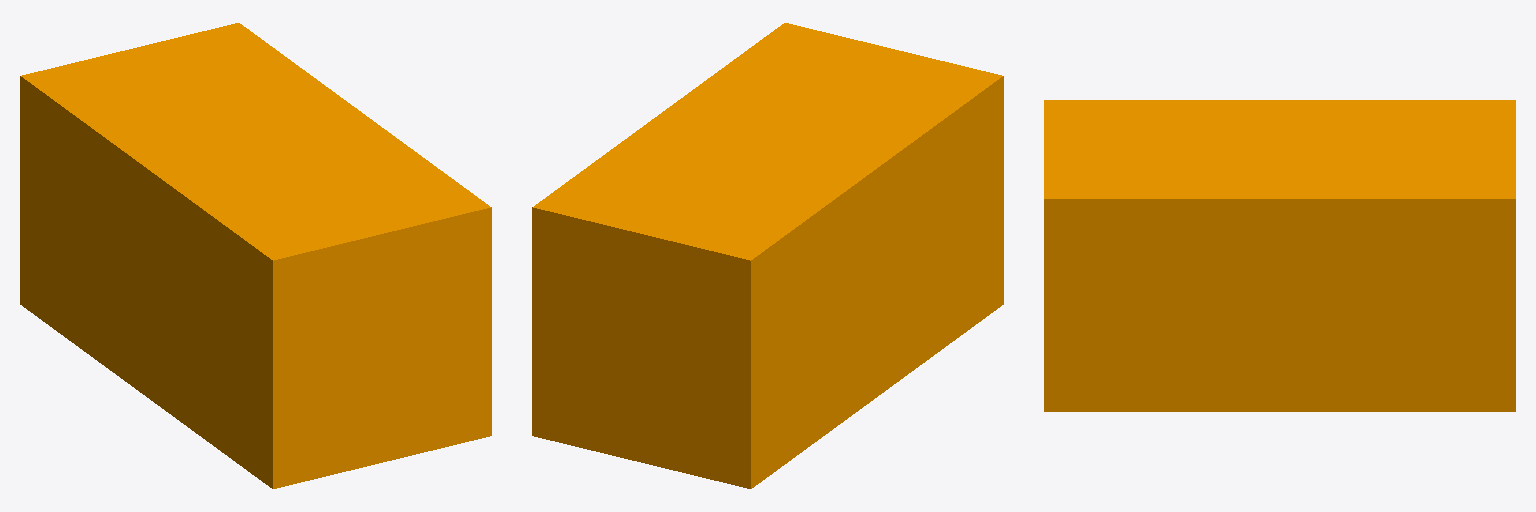
URDF robot description (ball):
<?xml version="0.0" ?>
<robot name="ball">
    <link name="wall">
        <contact>
            <lateral_friction value="1"/>
        </contact>

        <inertial>
            <origin xyz="0 0 0" rpy="0 0 0"/>
            <mass value="0.0"/>
            <inertia ixx="0"  ixy="0"  ixz="0" iyy="0" iyz="0" izz="0" />
        </inertial>

        <visual>
            <origin xyz="0 0 0" rpy="0 0 0" />
            <geometry>
                <box size="0.5 1.0 0.5" />
            </geometry>
            <material name="Orange">
                <color rgba="1.0 0.65 0.0 1.0"/>
            </material>
        </visual>

        <collision>
            <origin xyz="0 0 0" rpy="0 0 0"/>
            <geometry>
                <box size="0.5 1.0 0.5" />
            </geometry>
        </collision>
    </link>
</robot>

--- What the picture shows (computed from the rendered views, not written in the file) ---
Views: 3 orthographic renders of the robot side by side, from view 1: azimuth 30°, elevation 25°; view 2: azimuth 150°, elevation 25°; view 3: azimuth 270°, elevation 25°.
Robot: ball — 1 links, 0 joints (none); root link wall; default pose: every joint at zero.
Visible links, largest first — view 1: wall; view 2: wall; view 3: wall.
Boxes of the visible links, x1=… form: wall: x1=20, y1=23, x2=491, y2=488; wall: x1=532, y1=23, x2=1003, y2=488; wall: x1=1044, y1=100, x2=1515, y2=411.
Size in the robot's own frame: 0.5 by 1 by 0.5 metres.
Geometry: primitives only (box / cylinder / sphere), no mesh files.